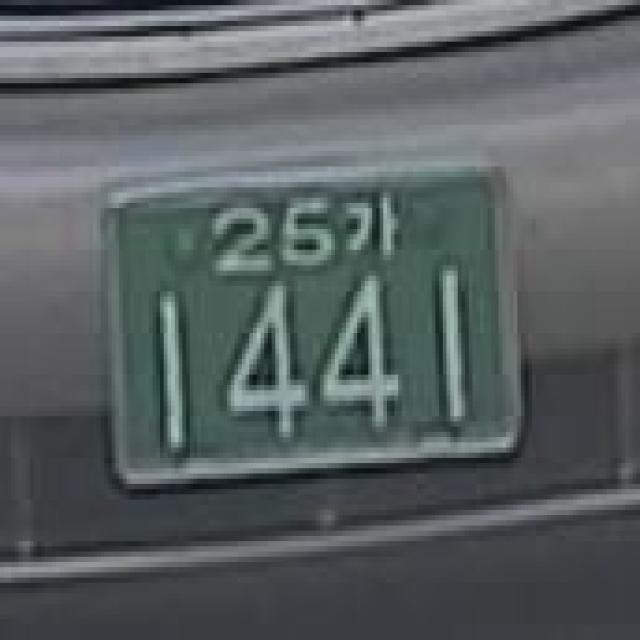illegal_plate: (89, 147, 531, 507)
